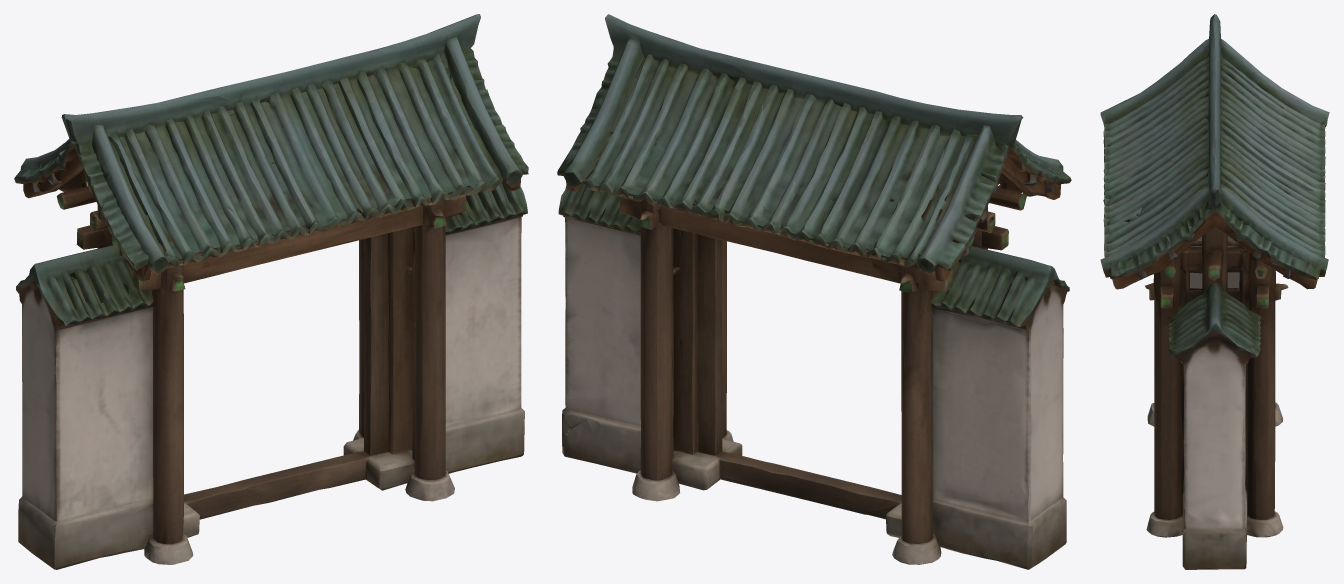
Rendered from ARCH-008.glb.
The picture shows the model from 3 angles, left to right: view 1: azimuth 30°, elevation 25°; view 2: azimuth 150°, elevation 25°; view 3: azimuth 270°, elevation 25°; orthographic projection. The views are drawn at different scales.
Parts seen in each view (by area): view 1: world; view 2: world; view 3: world.
Part boxes in pixels (x1,y1,x2,y2): world: (14,14,528,569); world: (557,14,1071,569); world: (1100,14,1329,569).
Size of the model in its own units: 4.5 by 3.96 by 2.2.
Materials: 1 (1 with a texture image).
